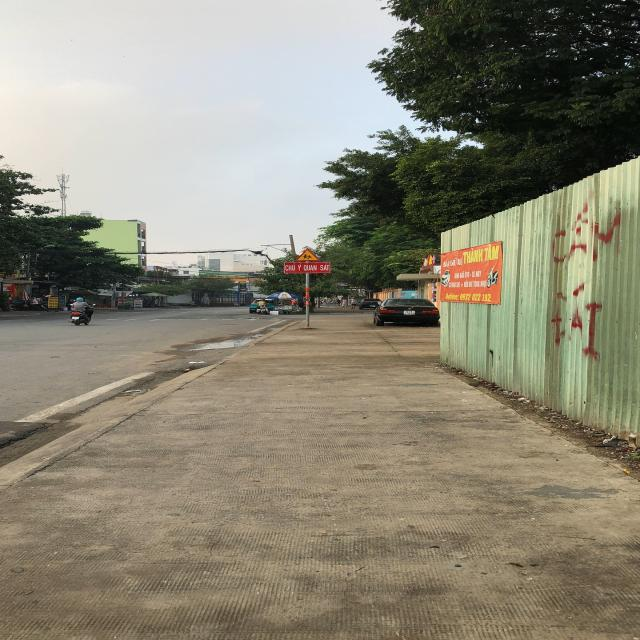Bien bao tre em: (292, 247, 322, 262)
